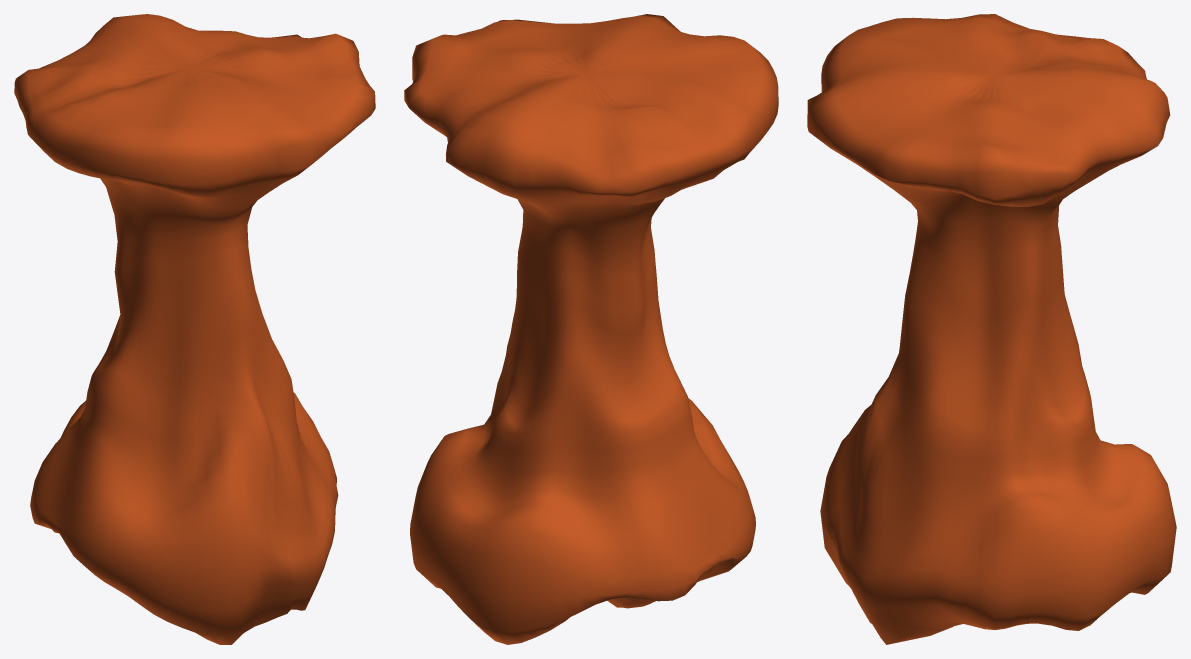
File: rock4.fbx
3 views of the same model, side by side, from view 1: azimuth 30°, elevation 25°; view 2: azimuth 150°, elevation 25°; view 3: azimuth 270°, elevation 25° (orthographic). The views are drawn at different scales.
Parts seen in each view (by area): view 1: Sphere; view 2: Sphere; view 3: Sphere.
Boxes of the visible parts, x1=… form: Sphere: x1=14, y1=14, x2=375, y2=644; Sphere: x1=404, y1=14, x2=778, y2=644; Sphere: x1=807, y1=14, x2=1176, y2=644.
Bounding box in the file's own units: 591 × 967 × 573.
